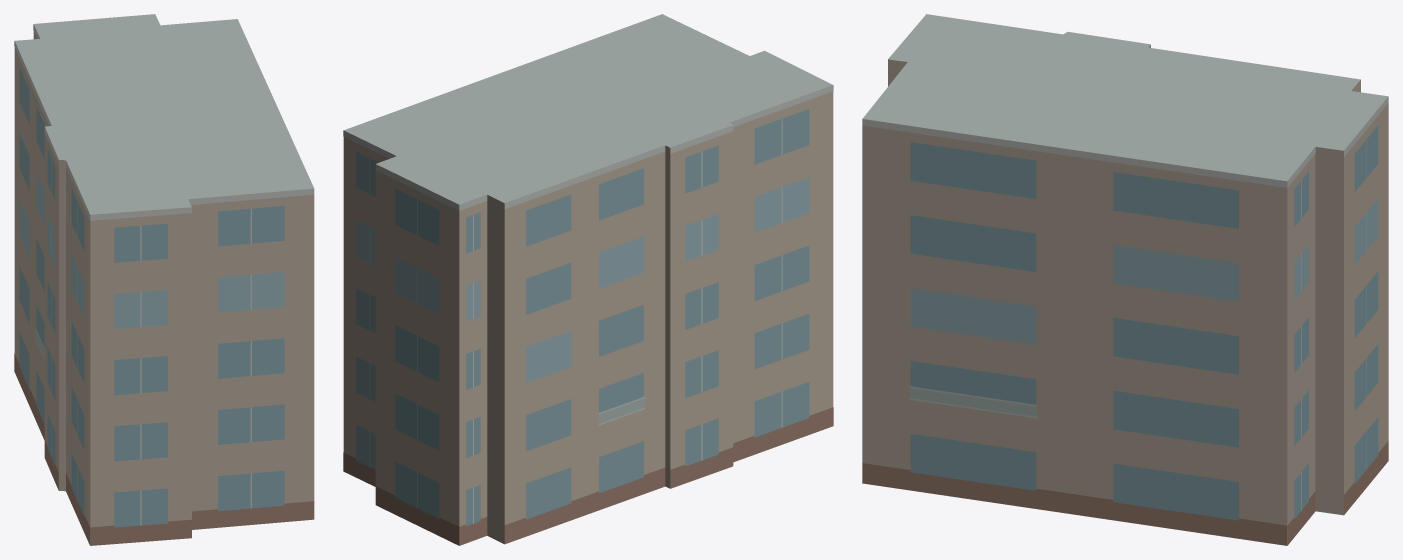
The model's file is survey-upis-32704595.glb.
The picture shows the model from 3 angles, left to right: view 1: azimuth 30°, elevation 25°; view 2: azimuth 150°, elevation 25°; view 3: azimuth 270°, elevation 25°; orthographic projection. The views are drawn at different scales.
Parts seen in each view (by area): view 1: survey-upis-32704595.tmp; view 2: survey-upis-32704595.tmp; view 3: survey-upis-32704595.tmp.
Part boxes in pixels (<box>): survey-upis-32704595.tmp: <box>14,14,314,545</box>; survey-upis-32704595.tmp: <box>343,14,833,545</box>; survey-upis-32704595.tmp: <box>862,14,1388,545</box>.
Size of the model in its own units: 13.2 by 13.4 by 17.54.
